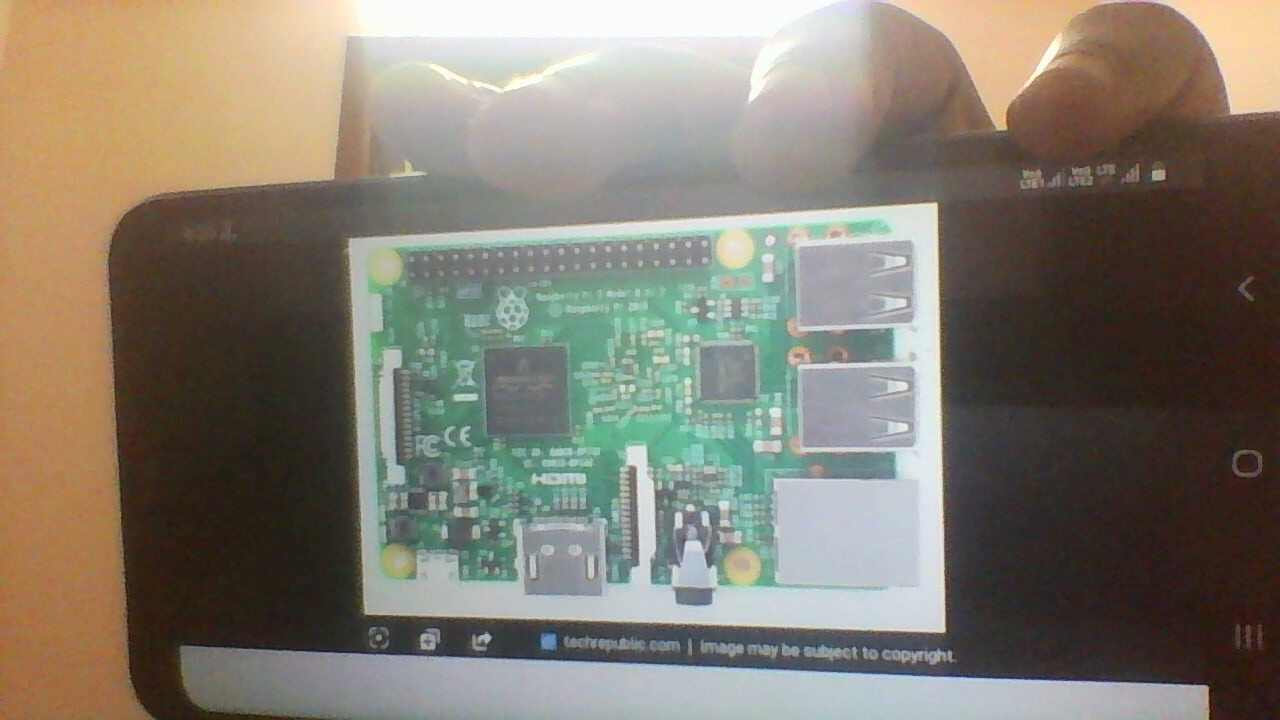aud: (667, 498, 720, 607)
eth: (771, 475, 920, 595)
usb: (792, 359, 920, 459), (790, 238, 920, 335)
